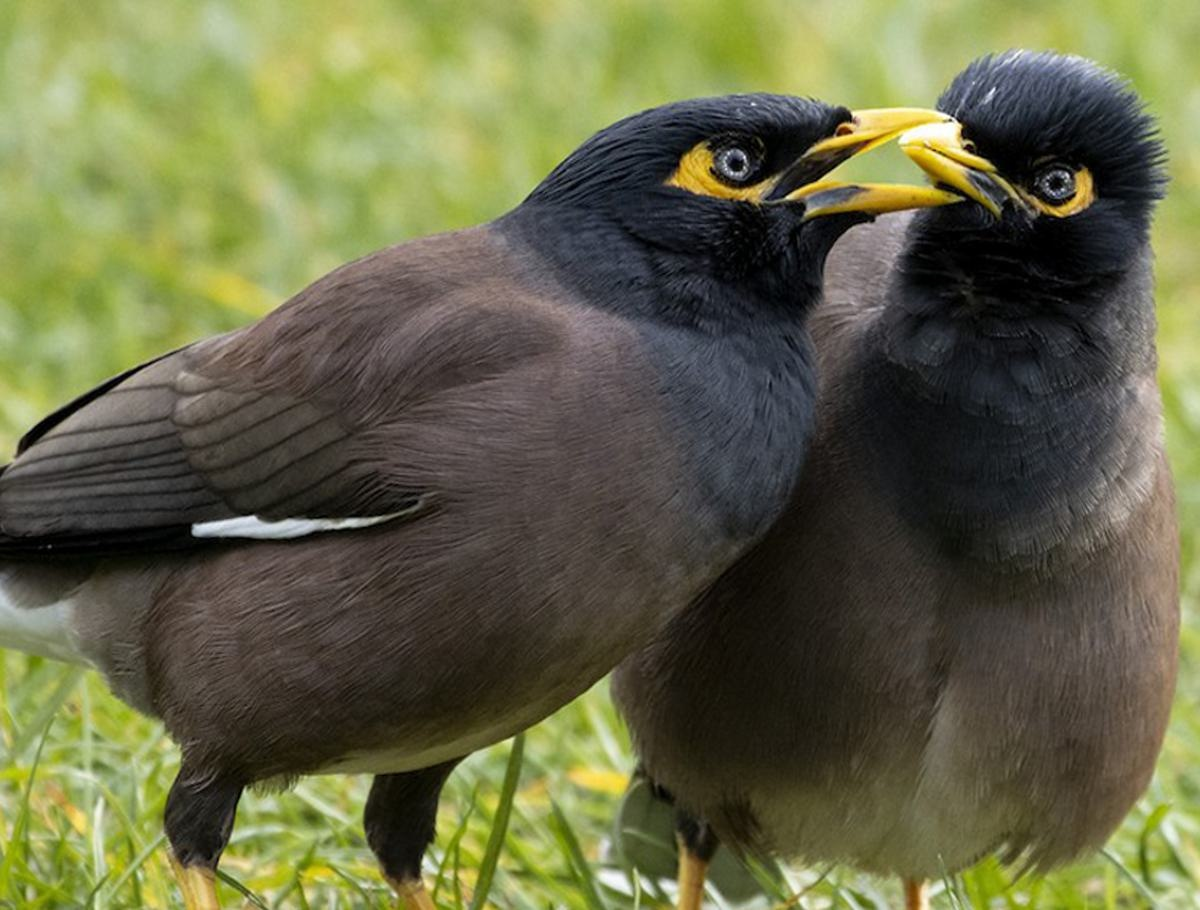myna: (1, 65, 966, 833), (886, 56, 1190, 763)
